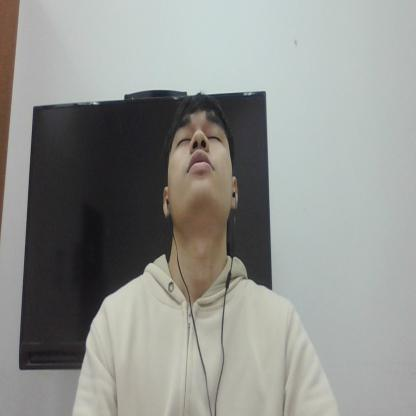Closed-Eyes: (168, 125, 228, 151)
